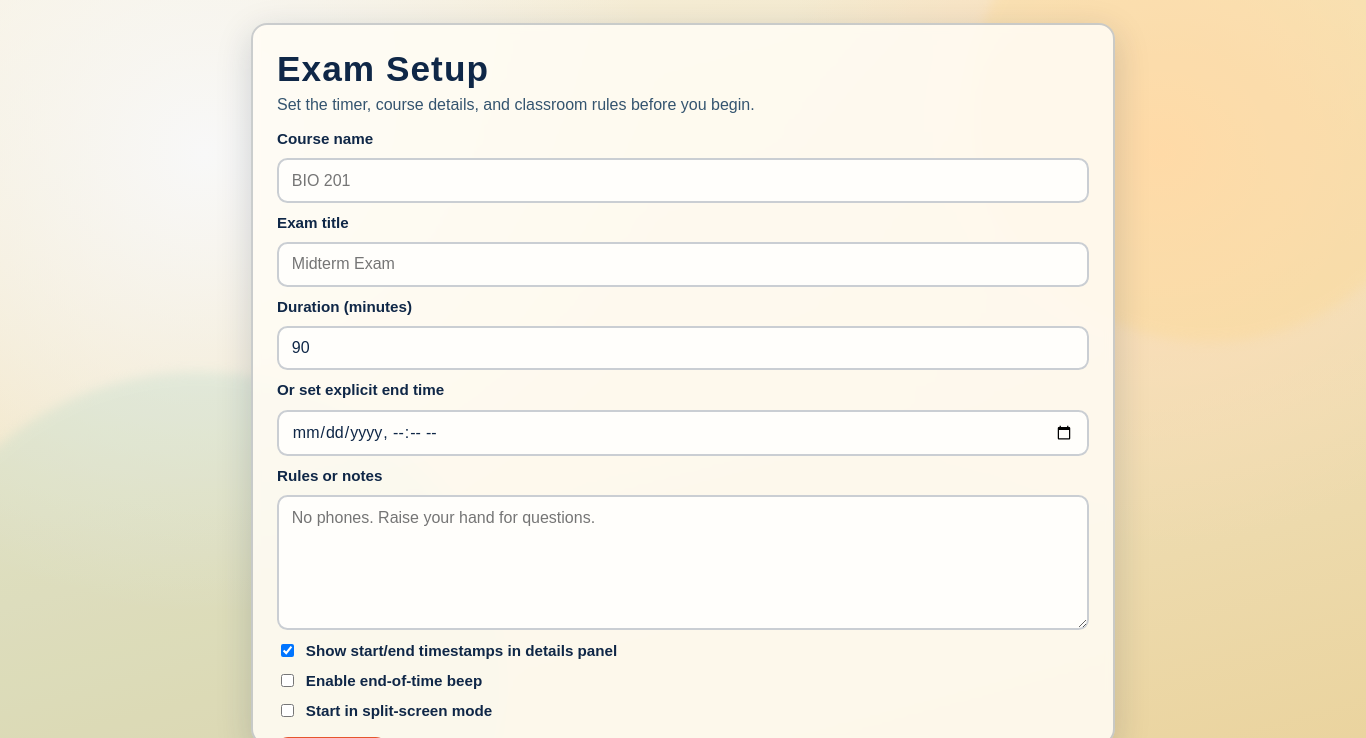
Test: App › persists trimmed setup values and updates the URL
The image size is (1366, 738).
Type "  CS 101  " into the field labelled "Course name".
click(683, 181); type("  CS 101  ")  # box [277,158,1089,203]
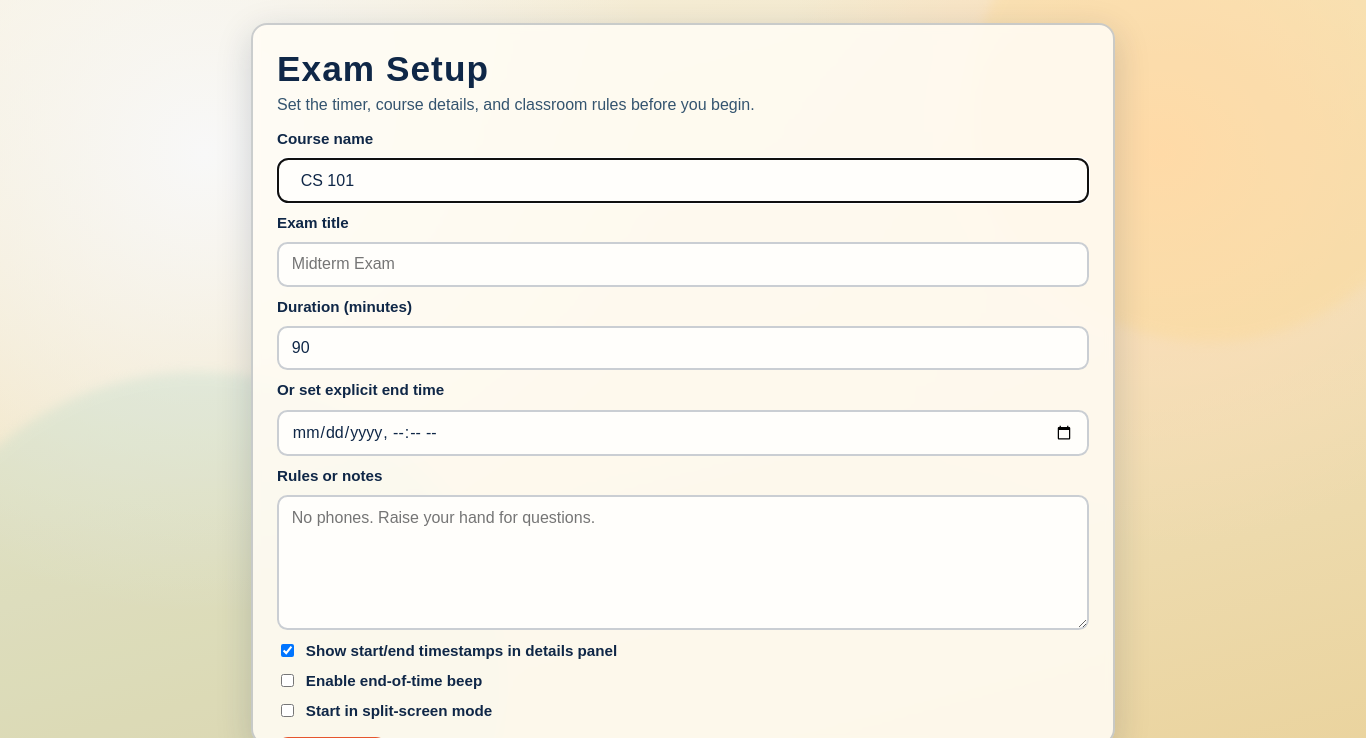
Type "  Final Exam  " into the field labelled "Exam title".
click(683, 264); type("  Final Exam  ")  # box [277,242,1089,287]
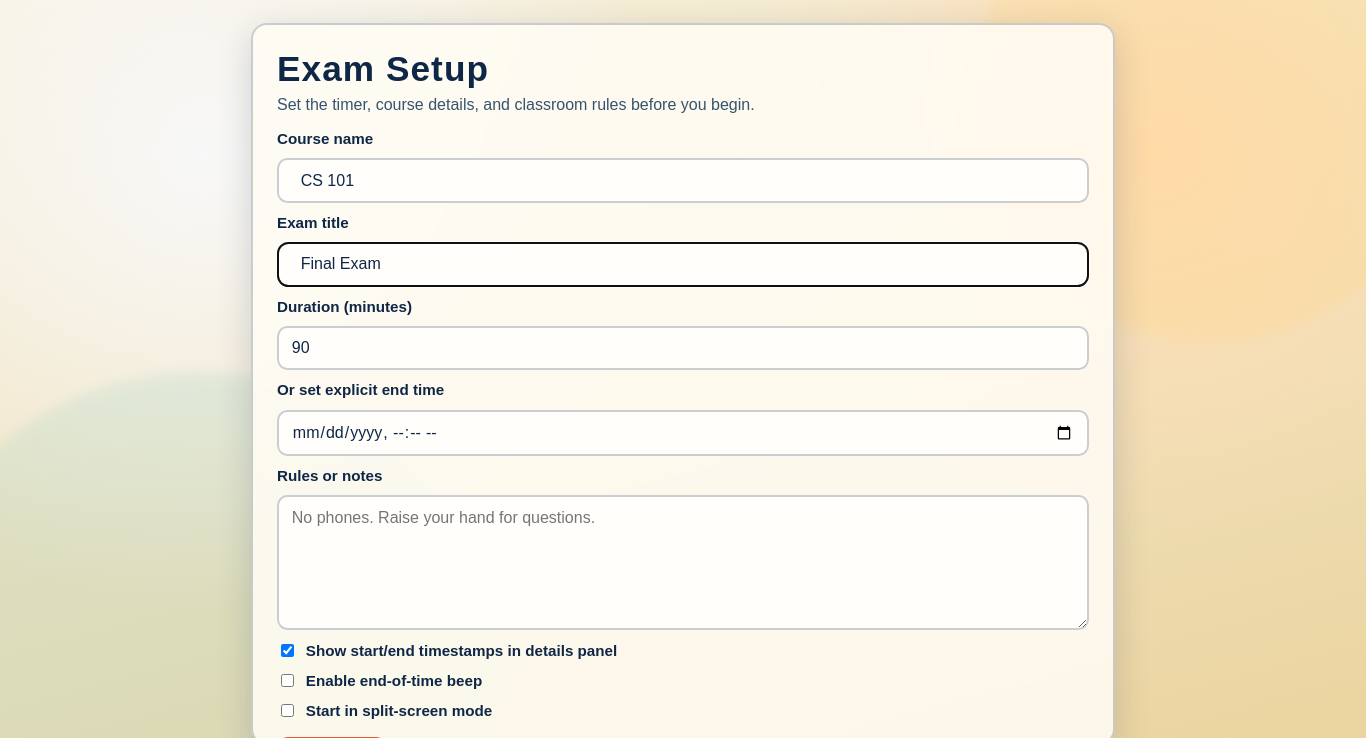
Type "  Quiet testing environment  " into the text box labelled "Rules or notes".
click(683, 563); type("  Quiet testing environment  ")  # box [277,495,1089,630]
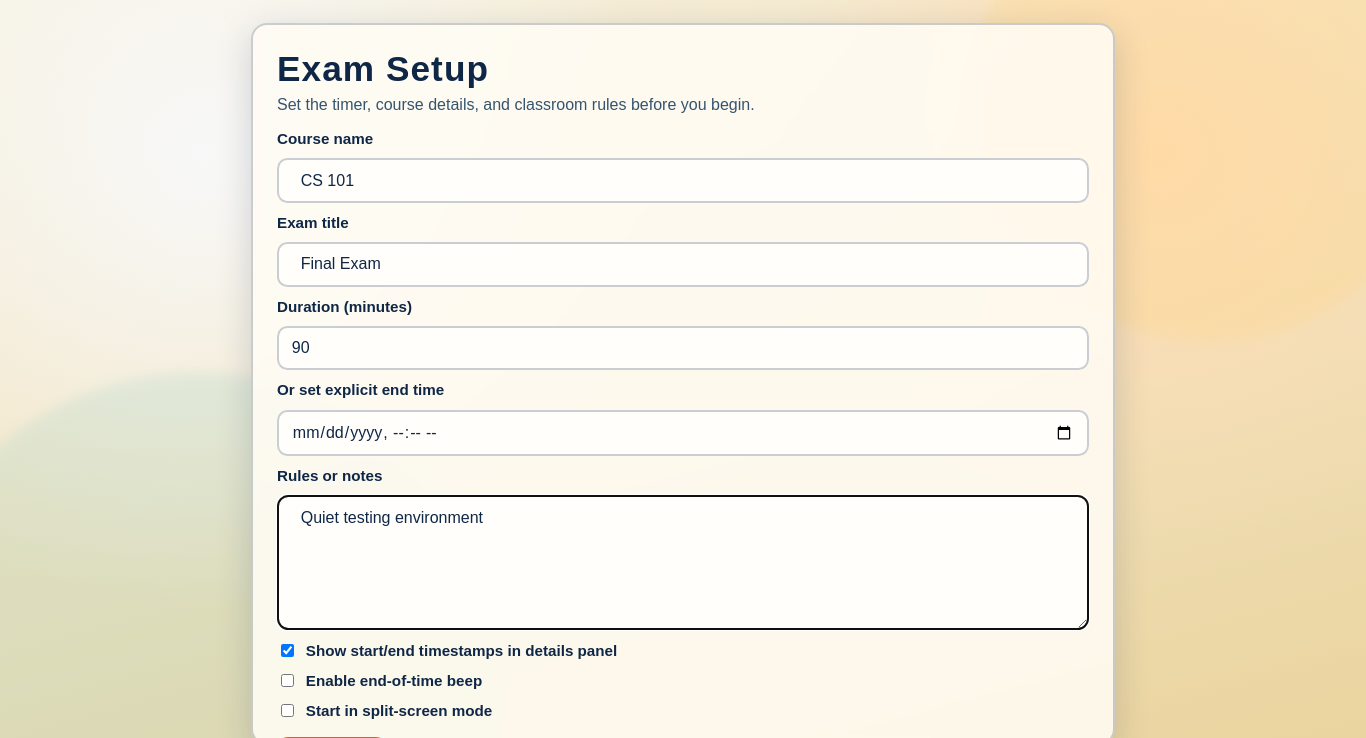
Replace the text in the number field labelled "Duration (minutes)" with "62" at (683, 348), box [277,326,1089,370]
(page scrolled)
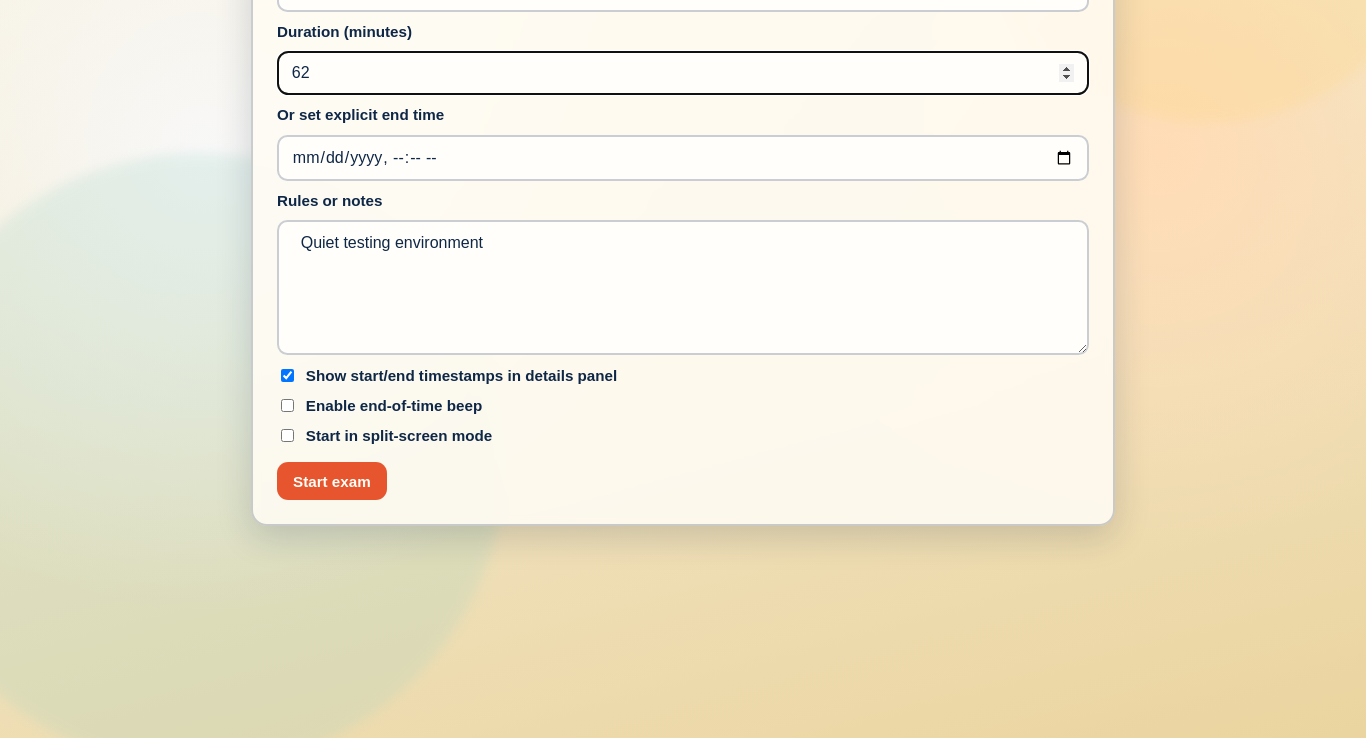
Click the button "Start exam".
click(332, 481)  # box [277,462,387,500]
(page scrolled)
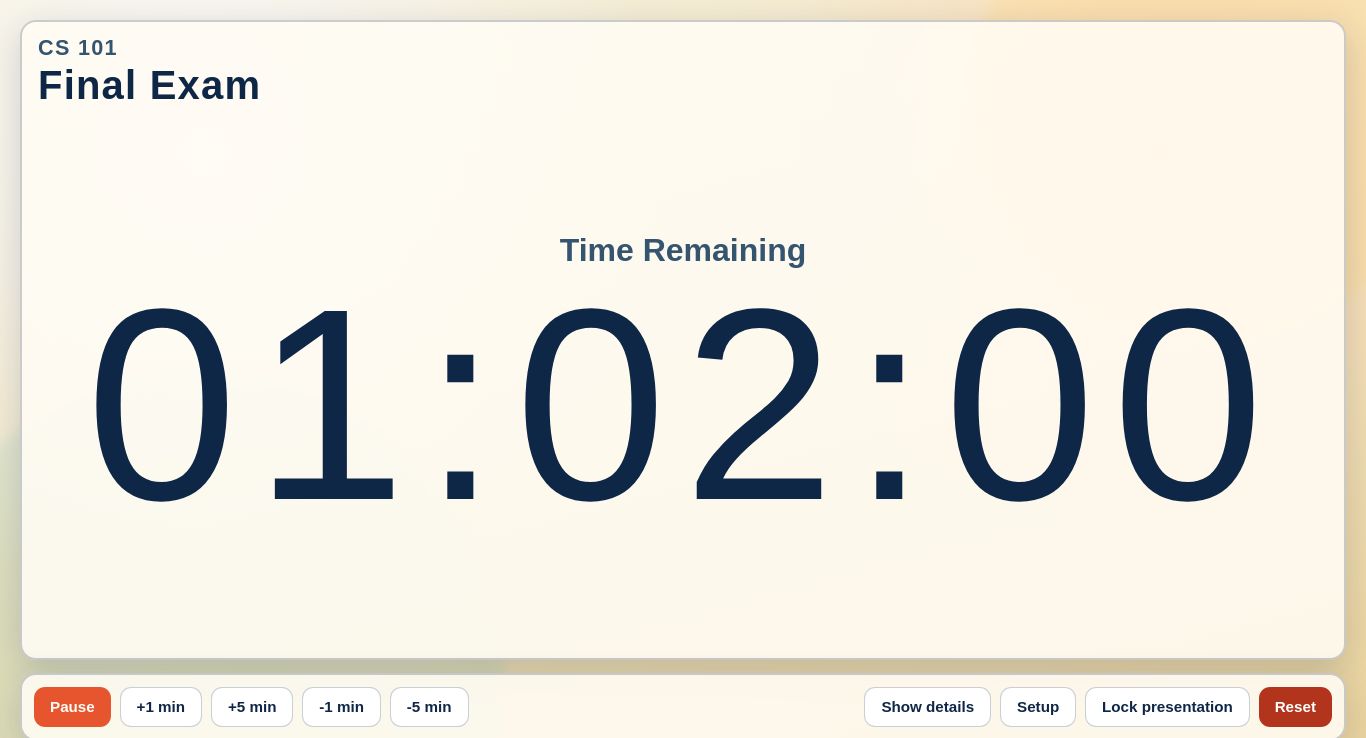
Check: the text "CS 101" is shown, box [38,35,118,60]
Check: the heading "Final Exam" is shown, box [38,63,261,107]
